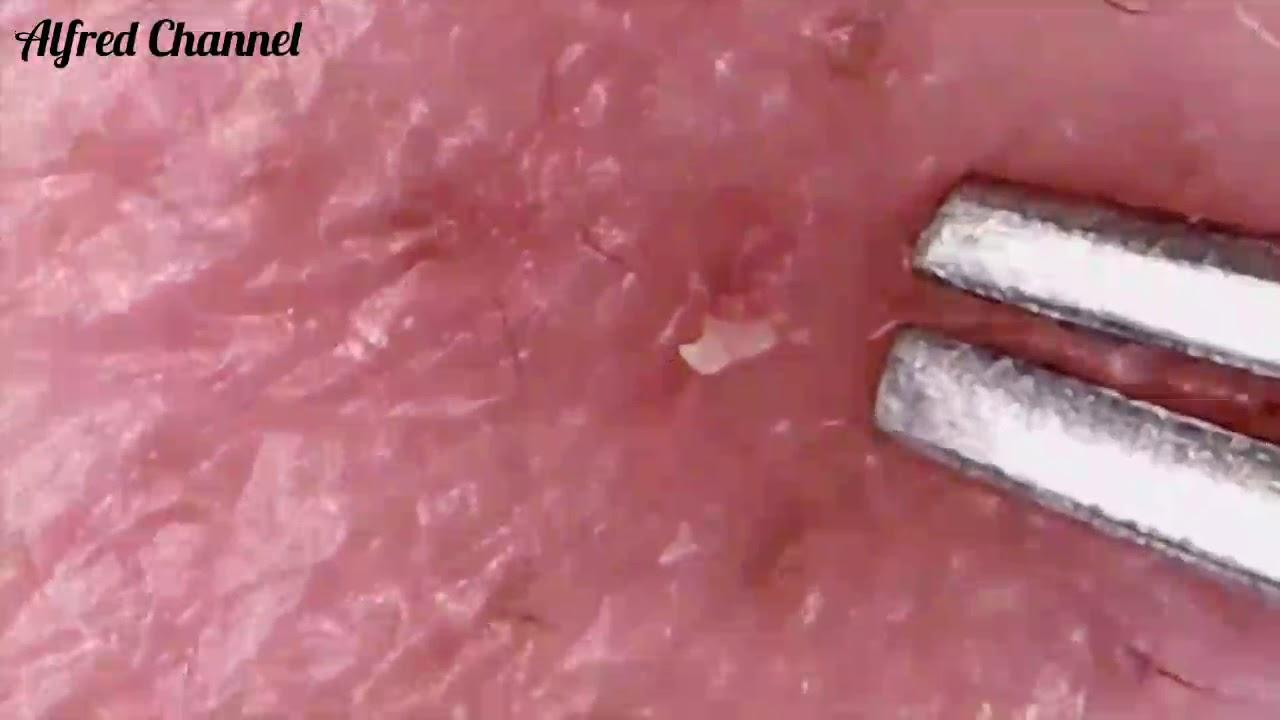Acne: (619, 195, 1175, 720)
